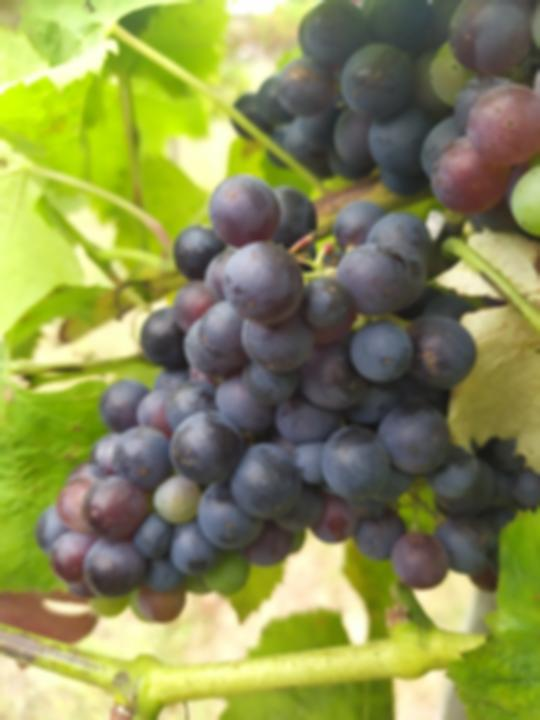grape: (33, 177, 479, 625)
